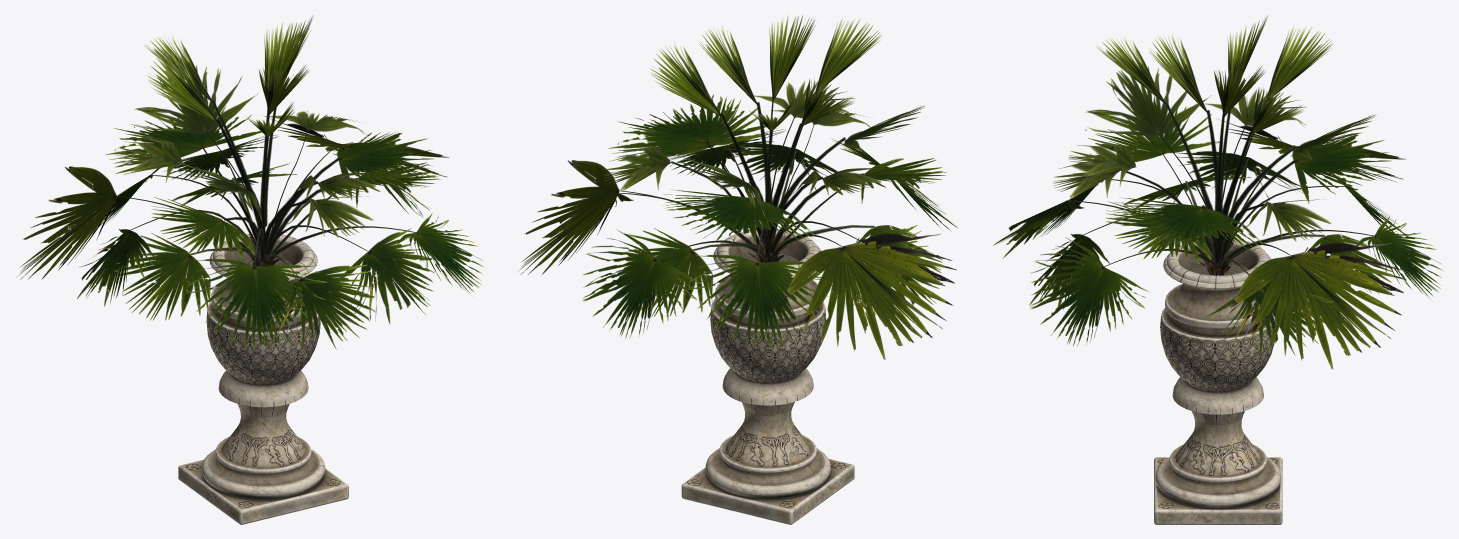
The model's file is vase_flower_pot_-_24_mb.glb.
The picture shows the model from 3 angles, left to right: view 1: azimuth 30°, elevation 25°; view 2: azimuth 150°, elevation 25°; view 3: azimuth 270°, elevation 25°; orthographic projection.
Visible parts, largest first — view 1: 03_1_03_0, 03_03_0, vase_Flower_Pot_; view 2: 03_1_03_0, 03_03_0, vase_Flower_Pot_; view 3: 03_03_0, 03_1_03_0, vase_Flower_Pot_.
Part boxes in pixels (<box>): 03_1_03_0: <box>17,22,438,350</box>; 03_03_0: <box>77,16,484,351</box>; vase_Flower_Pot_: <box>178,233,348,524</box>; 03_1_03_0: <box>543,18,957,359</box>; 03_03_0: <box>520,15,946,349</box>; vase_Flower_Pot_: <box>681,229,854,524</box>; 03_03_0: <box>993,26,1408,369</box>; 03_1_03_0: <box>1029,15,1443,357</box>; vase_Flower_Pot_: <box>1154,238,1282,524</box>.
Bounding box in the file's own units: 1.73 × 1.78 × 1.62.
2 materials, 2 textured.
